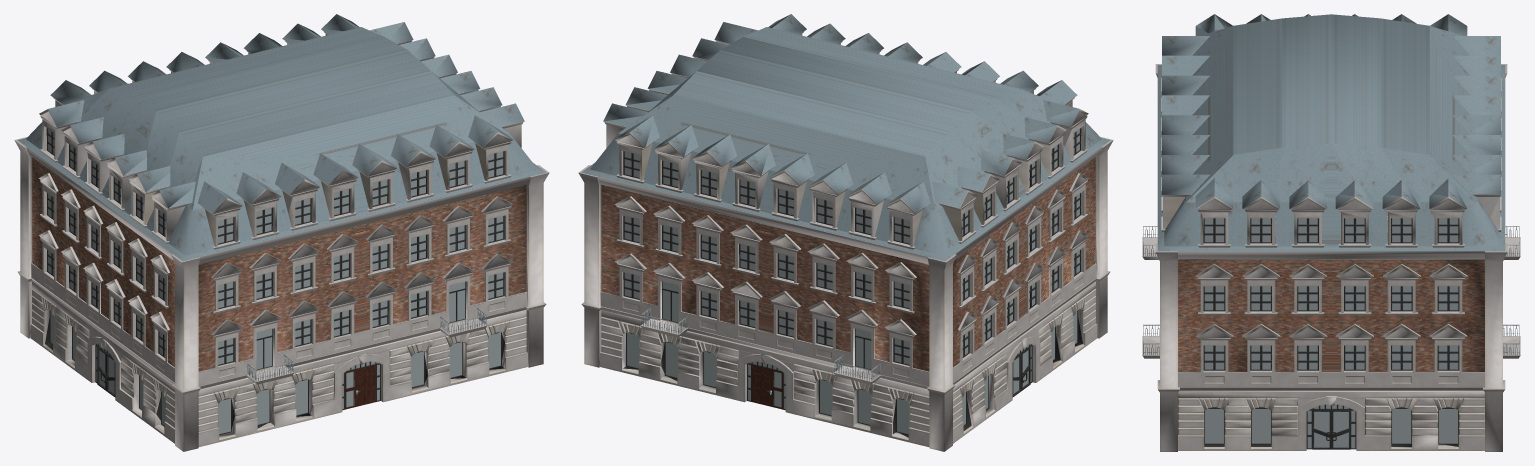
The model's file is Hause2_p6.fbx.
3 views of the same model, side by side, from view 1: azimuth 30°, elevation 25°; view 2: azimuth 150°, elevation 25°; view 3: azimuth 270°, elevation 25° (orthographic). The views are drawn at different scales.
Visible parts, largest first — view 1: Hause2__1_; view 2: Hause2__1_; view 3: Hause2__1_.
Boxes of the visible parts, x1,y1,x2,y2 form: Hause2__1_: [14, 14, 549, 451]; Hause2__1_: [578, 14, 1113, 451]; Hause2__1_: [1142, 14, 1520, 451].
Bounding box in the file's own units: 9488 × 6585 × 8042.
Materials: 1 (1 with a texture image).
